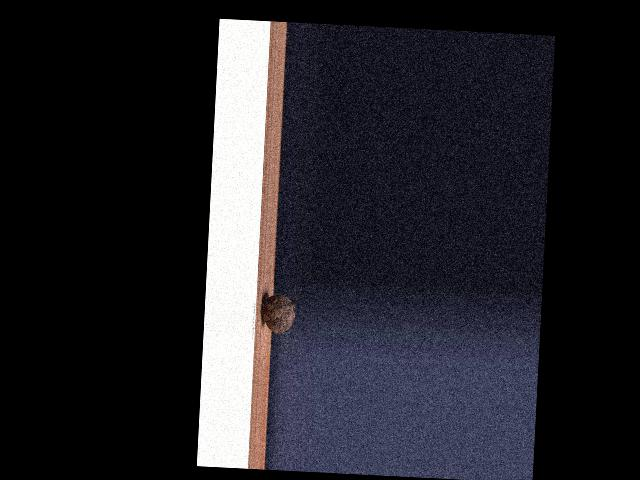beet: (260, 281, 297, 334)
